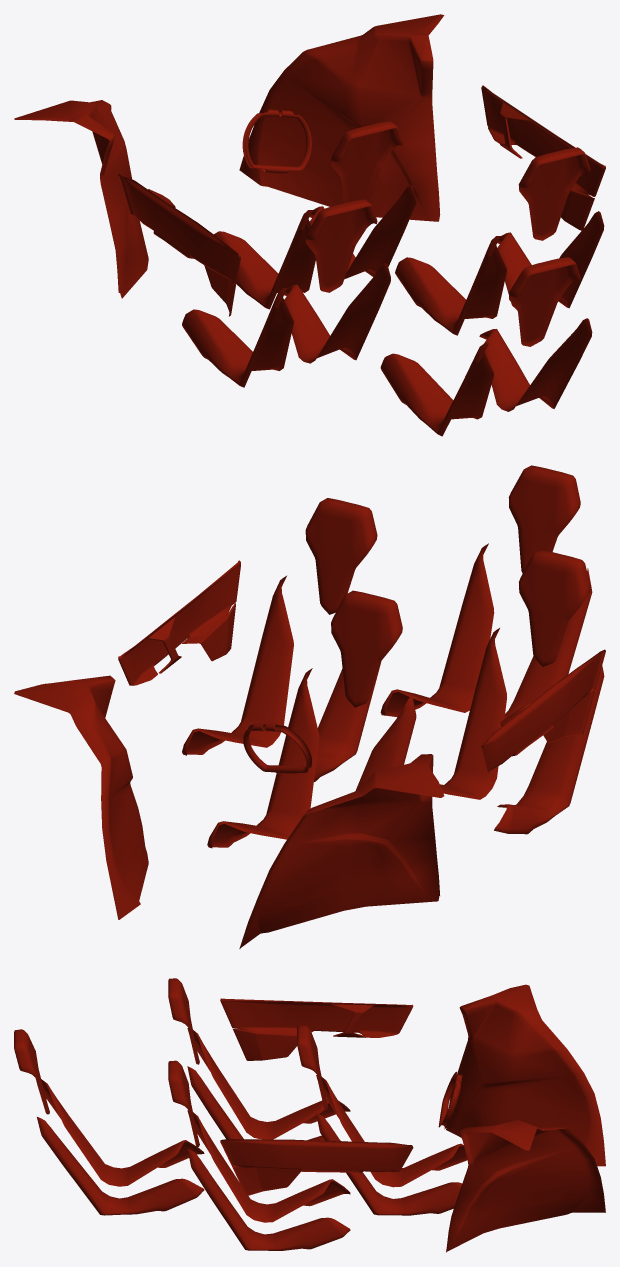
The model's file is Interior_Carmine.glb.
3 renders of one model, top to bottom at view 1: azimuth 30°, elevation 25°; view 2: azimuth 150°, elevation 25°; view 3: azimuth 270°, elevation 25°, orthographic. The views are drawn at different scales.
Parts seen in each view (by area): view 1: InteriorSeatsColor1, InteriorDashSides, InteriorDoorL03, InteriorDoorR03, InteriorSteeringWheel01, InteriorDoorR04, InteriorDoorL04; view 2: InteriorSeatsColor1, InteriorDashSides, InteriorDoorL03, InteriorDoorR03, InteriorSteeringWheel01, InteriorDoorR04, InteriorDoorL04; view 3: InteriorDashSides, InteriorSeatsColor1, InteriorDoorR03, InteriorDoorL03, InteriorDoorL04, InteriorDoorR04, InteriorSteeringWheel01, InteriorDoorL05.
Boxes of the visible parts, x1,y1,x2,y2 form: InteriorSeatsColor1: [182, 121, 604, 436]; InteriorDashSides: [14, 14, 444, 298]; InteriorDoorL03: [118, 174, 240, 284]; InteriorDoorR03: [481, 85, 605, 196]; InteriorSteeringWheel01: [242, 109, 311, 173]; InteriorDoorR04: [561, 189, 594, 230]; InteriorDoorL04: [204, 265, 235, 316]; InteriorSeatsColor1: [182, 465, 604, 848]; InteriorDashSides: [14, 675, 444, 948]; InteriorDoorL03: [481, 649, 605, 772]; InteriorDoorR03: [118, 560, 240, 685]; InteriorSteeringWheel01: [243, 723, 311, 773]; InteriorDoorR04: [182, 603, 235, 661]; InteriorDoorL04: [543, 691, 594, 743]; InteriorDashSides: [446, 984, 605, 1252]; InteriorSeatsColor1: [14, 978, 467, 1250]; InteriorDoorR03: [220, 1139, 413, 1172]; InteriorDoorL03: [220, 998, 413, 1037]; InteriorDoorL04: [233, 1029, 313, 1060]; InteriorDoorR04: [232, 1167, 300, 1196]; InteriorSteeringWheel01: [438, 1071, 462, 1129]; InteriorDoorL05: [330, 1004, 373, 1037].
Size of the model in its own units: 2.05 by 0.9616 by 3.09.
